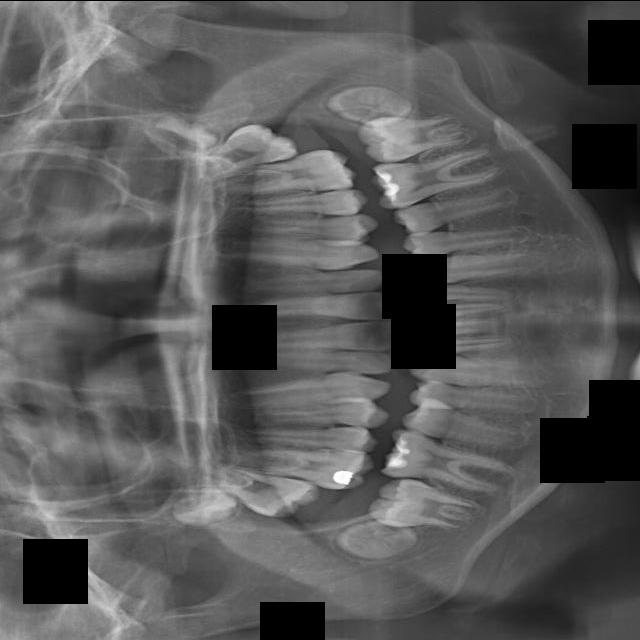3M ESPE Implant: (163, 470, 244, 542)
AGS Medikal Implant: (355, 111, 476, 164)
AMerOss Implant: (366, 131, 510, 213)
Amalgam filling: (190, 458, 321, 525)
Anthogyr Implant: (391, 182, 527, 236)
Bicon Implant: (400, 217, 532, 261)
BioHorizons Implant: (401, 244, 541, 288)
BioLife Implant: (402, 282, 517, 302)
Biomet 3i Implant: (404, 302, 506, 319)
Blue Sky Bio Implant: (405, 318, 506, 337)
Camlog Implant: (403, 336, 515, 357)
Caries: (239, 267, 386, 299)
Composite filling: (407, 350, 550, 395)
Cowellmedi Implant: (408, 378, 540, 418)
Crown: (398, 396, 531, 463)
DENTSPLY Implant: (215, 440, 375, 492)
Dentatus Implant: (380, 427, 517, 509)
Dentis Implant: (368, 476, 490, 530)
Dentium Implant: (333, 515, 422, 565)
Euroteknika Implant: (234, 416, 379, 453)
Filling: (248, 400, 391, 433)
Frontier Implant: (223, 369, 392, 410)
Hiossen Implant: (213, 235, 380, 272)
Implant: (238, 320, 396, 354)
Implant Direct: (244, 346, 395, 375)
Keystone Dental Implant: (239, 290, 398, 325)
MIS Implant: (241, 213, 378, 242)
Mandible: (226, 187, 369, 226)
Maxilla: (210, 146, 356, 195)
Megagen Implant: (193, 115, 300, 175)
Neodent Implant: (138, 104, 222, 171)
Neoss Implant: (324, 77, 415, 127)
